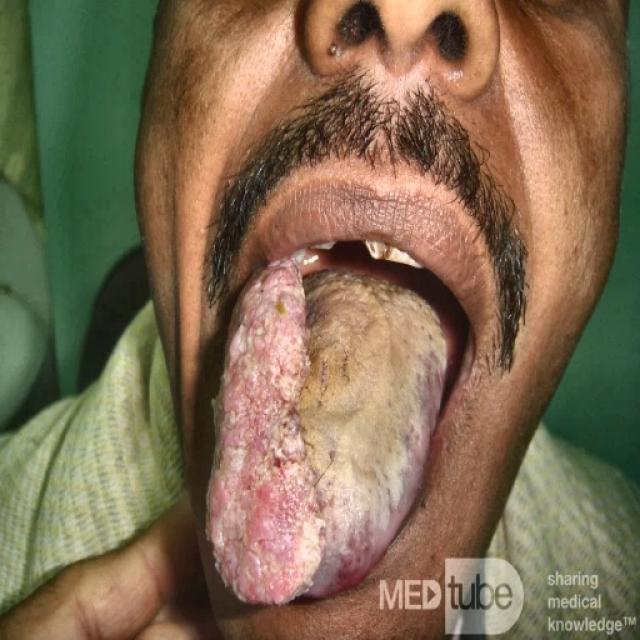cancer-detection: (200, 264, 333, 608)
processing_area: (202, 259, 448, 602)
